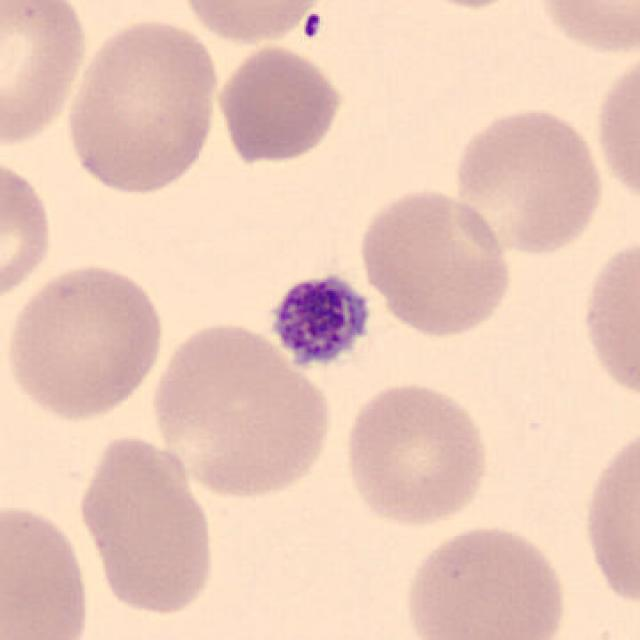Platelets: (267, 266, 373, 370), (299, 11, 325, 42)
RBC: (146, 316, 338, 502), (60, 11, 224, 201), (71, 428, 221, 620), (2, 259, 169, 425), (354, 184, 516, 340), (448, 102, 608, 258), (338, 376, 494, 530), (400, 520, 572, 640), (212, 42, 348, 168), (0, 0, 92, 151), (0, 497, 96, 640), (578, 418, 638, 615), (576, 229, 640, 406), (0, 150, 57, 307), (590, 44, 638, 212), (172, 0, 334, 48), (528, 0, 638, 58), (396, 0, 536, 12)
